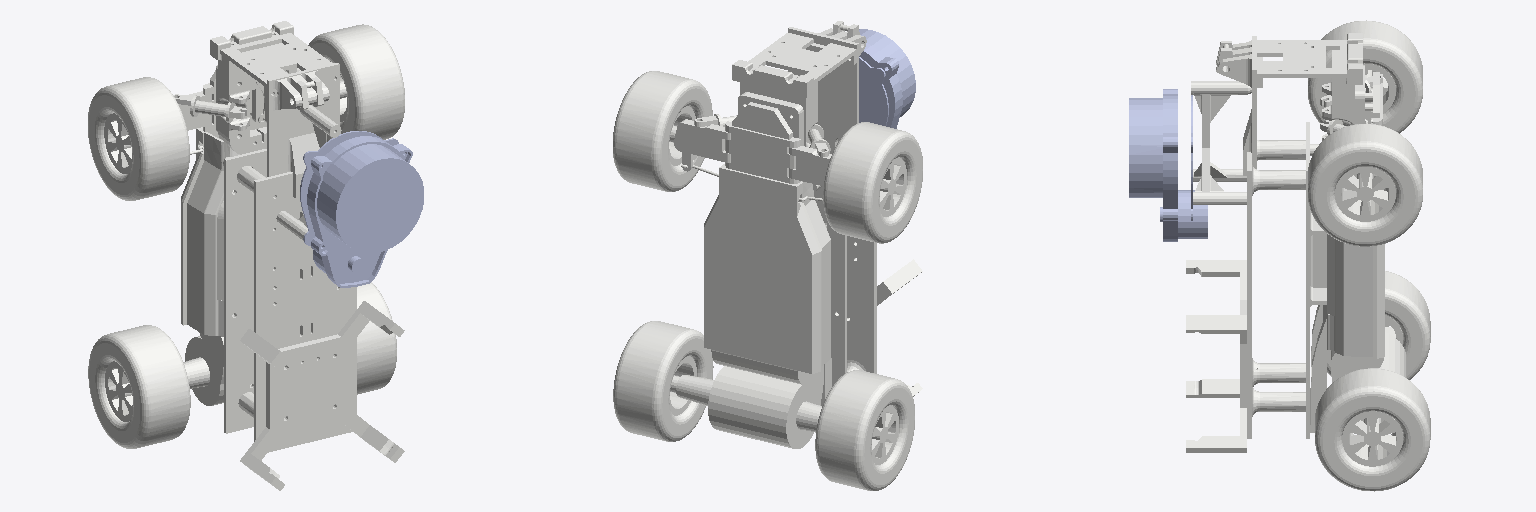
URDF robot description (PiCar_urdf):
<?xml version="1.0" encoding="utf-8"?>
<!-- This URDF was automatically created by SolidWorks to URDF Exporter! Originally created by [author] ([email redacted]) 
     Commit Version: 1.6.0-4-g7f85cfe  Build Version: 1.6.7995.38578
     For more information, please see http://wiki.ros.org/sw_urdf_exporter -->
<robot
  name="PiCar_urdf">
  <link
    name="base_link">
    <inertial>
      <origin
        xyz="8.232E-05 -0.068754 0.01704"
        rpy="0 0 0" />
      <mass
        value="1.1902" />
      <inertia
        ixx="0.001539"
        ixy="-2.1481E-06"
        ixz="-1.2431E-07"
        iyy="0.00060654"
        iyz="8.85E-05"
        izz="0.0015606" />
    </inertial>
    <visual>
      <origin
        xyz="0 0 0"
        rpy="0 0 0" />
      <geometry>
        <mesh
          filename="package://ros2_picar/meshes/base_link.STL" />
      </geometry>
      <material
        name="">
        <color
          rgba="0.96471 0.96471 0.95294 1" />
      </material>
    </visual>
    <collision>
      <origin
        xyz="0 0 0"
        rpy="0 0 0" />
      <geometry>
        <mesh
          filename="package://ros2_picar/meshes/base_link.STL" />
      </geometry>
    </collision>
  </link>
  <link
    name="laser_scan">
    <inertial>
      <origin
        xyz="-0.0083106 5.2042E-18 0.010926"
        rpy="0 0 0" />
      <mass
        value="0.14536" />
      <inertia
        ixx="5.7657E-05"
        ixy="2.1176E-21"
        ixz="-1.9773E-05"
        iyy="0.00010399"
        iyz="3.1764E-21"
        izz="0.00012249" />
    </inertial>
    <visual>
      <origin
        xyz="0 0 0"
        rpy="0 0 0" />
      <geometry>
        <mesh
          filename="package://ros2_picar/meshes/laser_scan.STL" />
      </geometry>
      <material
        name="">
        <color
          rgba="0.79216 0.81961 0.93333 1" />
      </material>
    </visual>
    <collision>
      <origin
        xyz="0 0 0"
        rpy="0 0 0" />
      <geometry>
        <mesh
          filename="package://ros2_picar/meshes/laser_scan.STL" />
      </geometry>
    </collision>
  </link>
  <joint
    name="base_to_laser"
    type="fixed">
    <origin
      xyz="0.0098765 -0.12919 0.018384"
      rpy="1.5708 -1.4829 0" />
    <parent
      link="base_link" />
    <child
      link="laser_scan" />
    <axis
      xyz="0 0 0" />
  </joint>
</robot>

--- Facts derived from the render (not from the file) ---
The picture shows the robot from 3 angles, left to right: view 1: azimuth 30°, elevation 25°; view 2: azimuth 150°, elevation 25°; view 3: azimuth 270°, elevation 25°; orthographic projection.
Robot: PiCar_urdf — 2 links, 1 joints (1 fixed); root link base_link; default pose: every joint at zero.
Visible links, largest first — view 1: base_link, laser_scan; view 2: base_link, laser_scan; view 3: base_link, laser_scan.
Boxes of the visible links, <box> form: base_link: <box>88,21,404,490</box>; laser_scan: <box>300,131,423,287</box>; base_link: <box>613,21,922,490</box>; laser_scan: <box>859,29,915,128</box>; base_link: <box>1186,20,1430,491</box>; laser_scan: <box>1129,89,1207,241</box>.
Bounding box of the posed robot: 0.1954 × 0.1964 × 0.2756 m (x, y, z).
2 mesh visuals loaded from 2 distinct referenced files (2 binary STL).